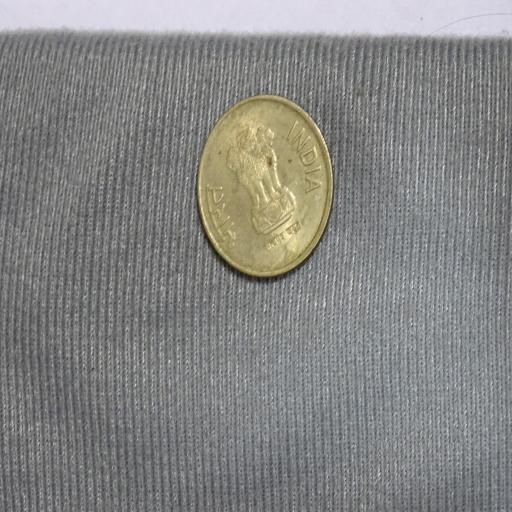rupee5: (191, 92, 336, 282)
